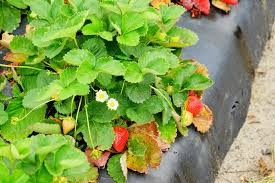ripe: (106, 123, 133, 152), (182, 93, 204, 118)
unripe: (59, 116, 79, 137), (177, 112, 198, 128)
